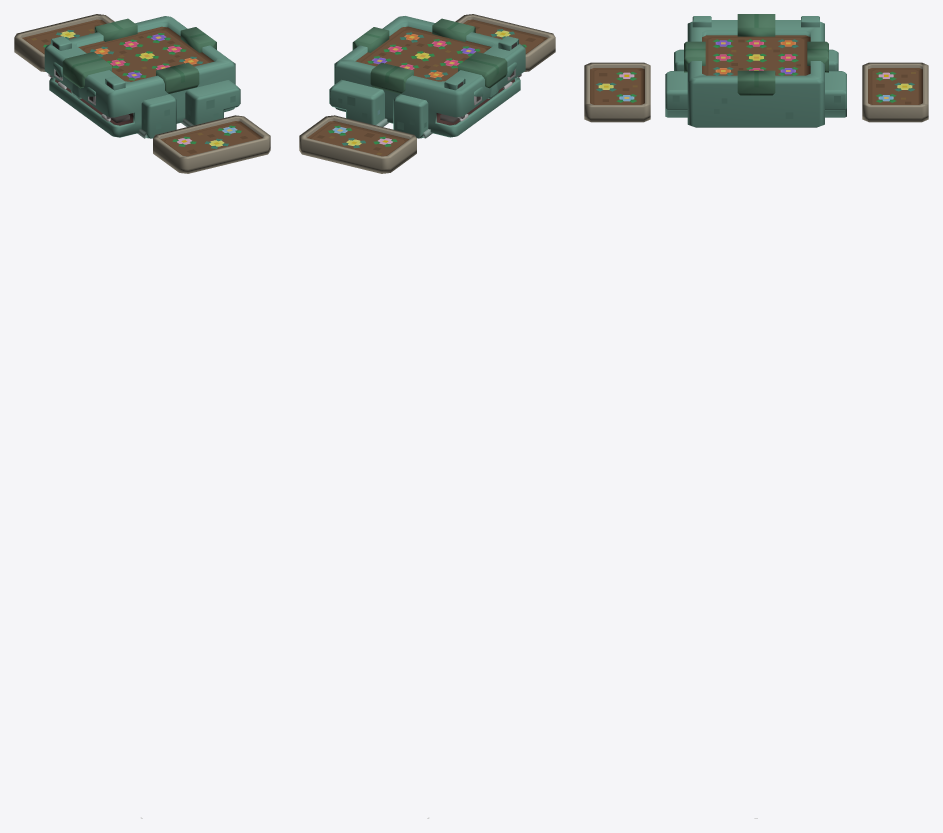
File: G_makeover_L_3.fbx
The picture shows the model from 3 angles, left to right: view 1: azimuth 30°, elevation 25°; view 2: azimuth 150°, elevation 25°; view 3: azimuth 270°, elevation 25°; orthographic projection.
Parts seen in each view (by area): view 1: flower_base; view 2: flower_base; view 3: flower_base.
Part boxes in pixels (left/top/right/bottom): flower_base: left=14, top=14, right=270, bottom=173; flower_base: left=299, top=14, right=555, bottom=173; flower_base: left=584, top=14, right=928, bottom=127.
Size of the model in its own units: 5.94 by 32.25 by 13.
